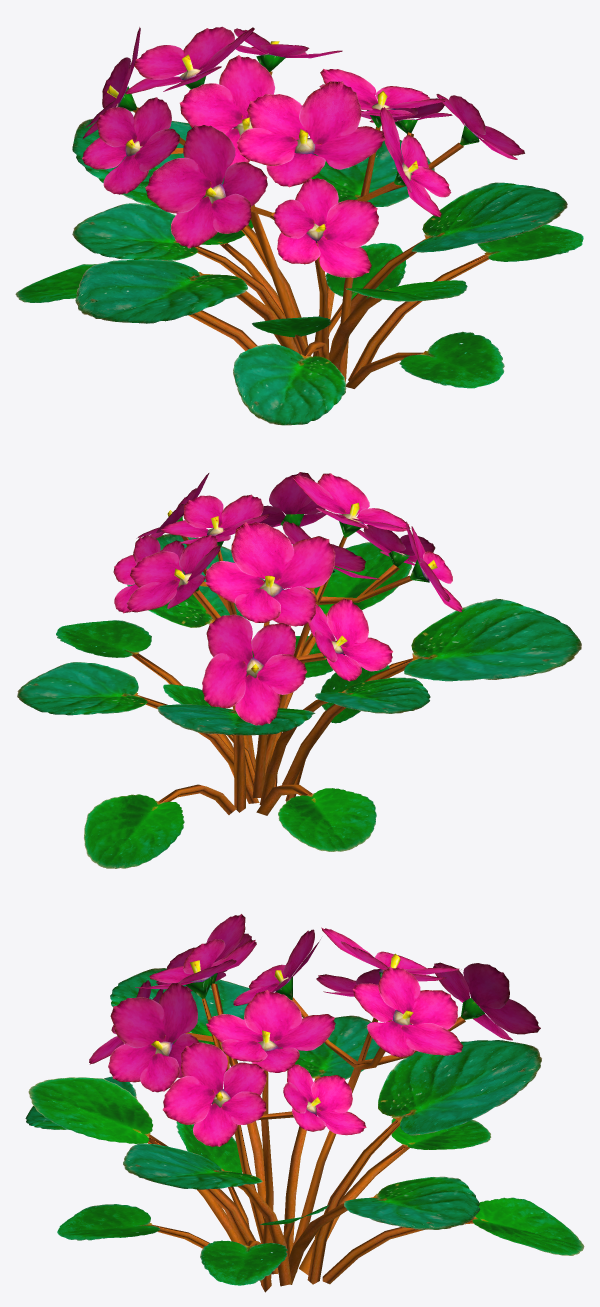
File: Saintpaulia2C.fbx
3 renders of one model, top to bottom at view 1: azimuth 30°, elevation 25°; view 2: azimuth 150°, elevation 25°; view 3: azimuth 270°, elevation 25°, orthographic. The views are drawn at different scales.
Parts seen in each view (by area): view 1: Sainpaulia2C_LOD0; view 2: Sainpaulia2C_LOD0; view 3: Sainpaulia2C_LOD0.
Part boxes in pixels (x1,y1,x2,y2): Sainpaulia2C_LOD0: (15,26,583,425); Sainpaulia2C_LOD0: (17,472,581,868); Sainpaulia2C_LOD0: (25,914,584,1292).
Size of what is drawn, in the model's own units: 71.05 by 45.15 by 68.54.
